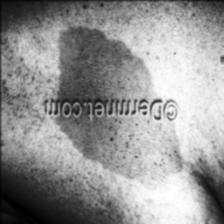Unclassified: (38, 18, 164, 96), (46, 122, 186, 192)
